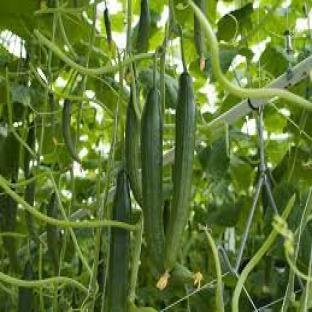Cucumber: (166, 73, 196, 270), (141, 87, 165, 271), (126, 89, 142, 205), (108, 229, 130, 311), (62, 100, 80, 162), (46, 224, 60, 275), (19, 287, 33, 311)
